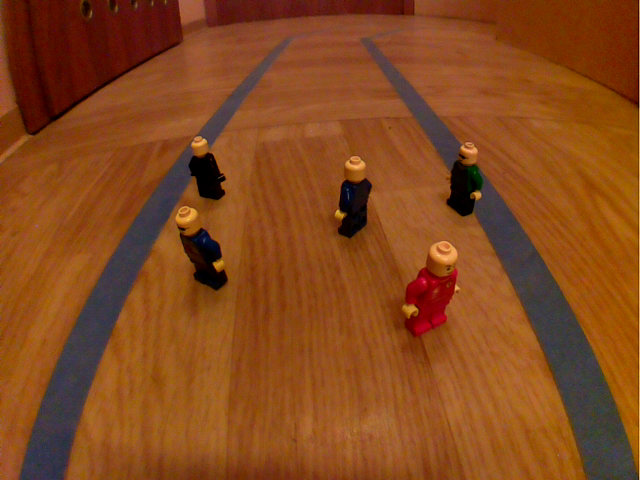Postac LEGO: (396, 235, 465, 342), (173, 204, 236, 297), (327, 152, 380, 241), (180, 134, 234, 205), (441, 139, 485, 222)
